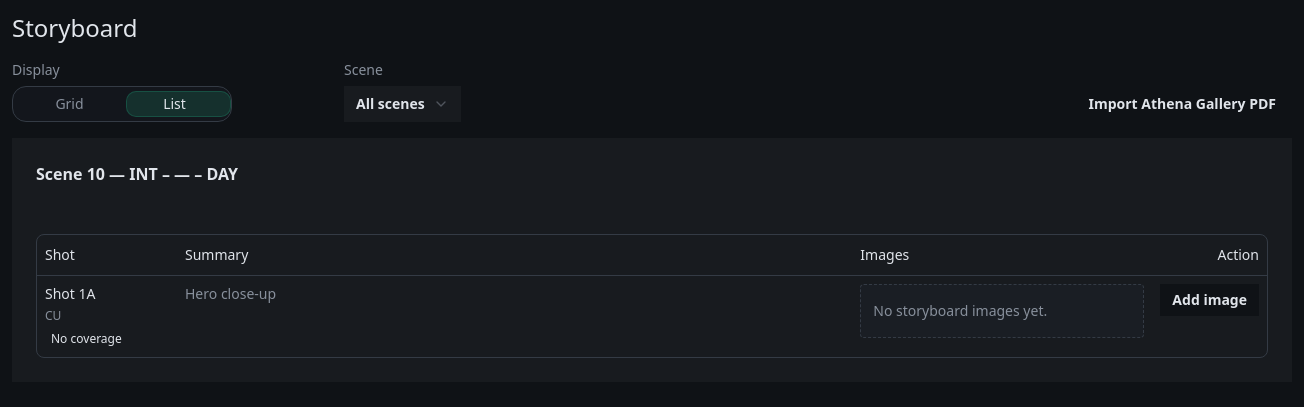
Test: StoryboardPage › toggles between list and grid layouts
This screenshot has width=1304, height=407.
Check: the element with test id "storyboard-list-layout" is shown, box x1=12 y1=234 x2=1292 y2=358
Click the tab "Grid": (70, 104) x1=17 y1=91 x2=122 y2=117
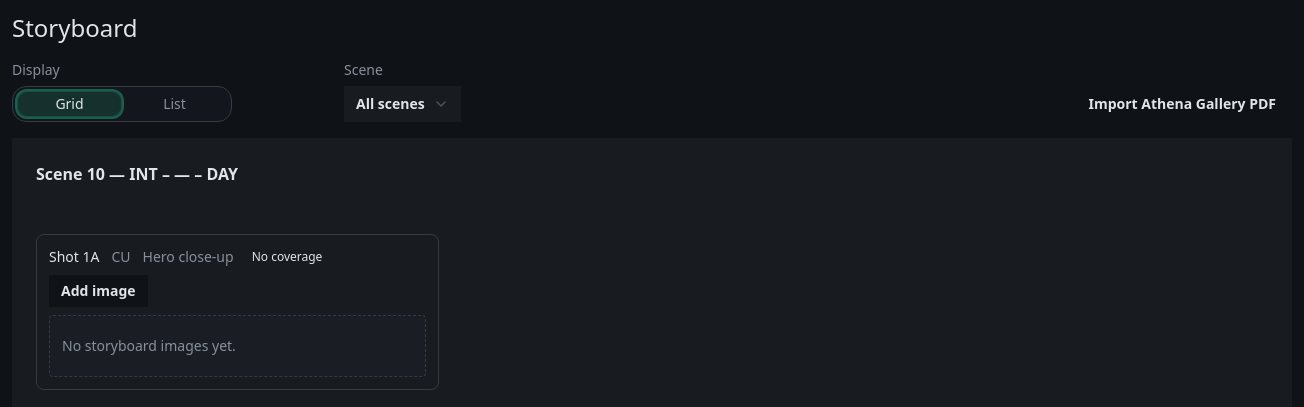
Check: the element with test id "storyboard-grid-layout" is shown, box x1=36 y1=234 x2=439 y2=390
Click the tab "List": (174, 104) x1=122 y1=91 x2=227 y2=117
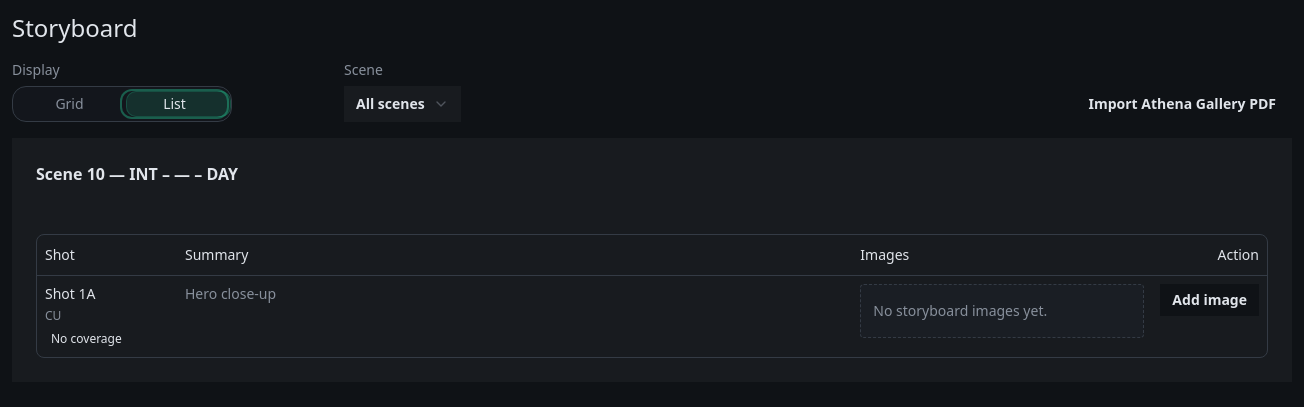
Check: the element with test id "storyboard-list-layout" is shown, box x1=12 y1=234 x2=1292 y2=358
